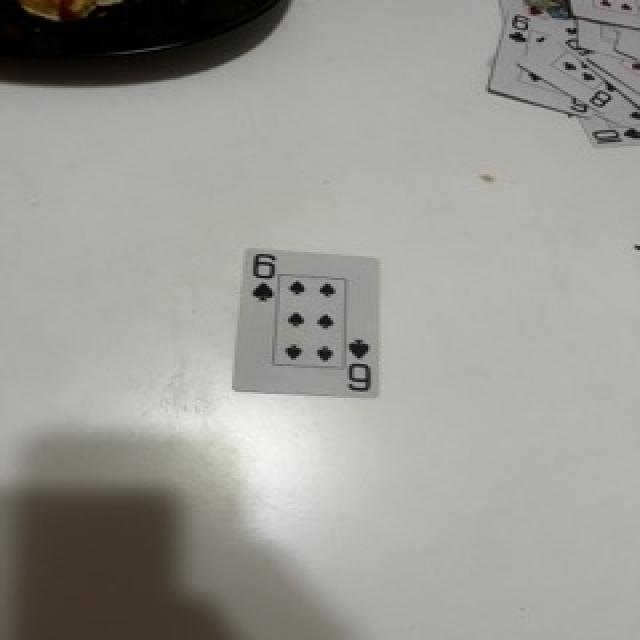6 of spades: (235, 249, 378, 396)
